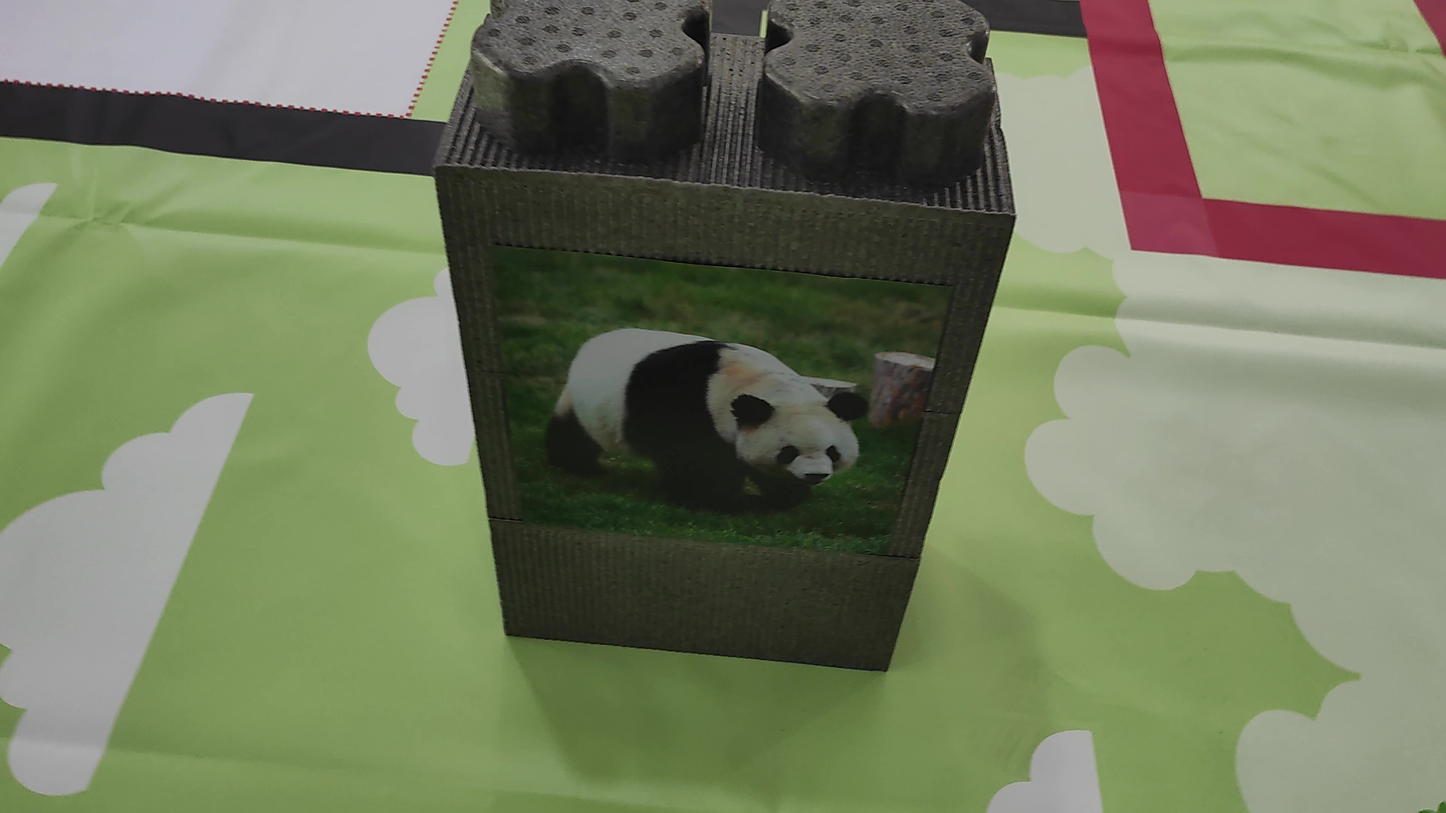panda: (528, 315, 889, 578)
